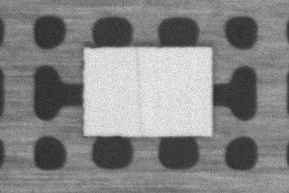DIE_CRACK: (134, 49, 142, 135)
